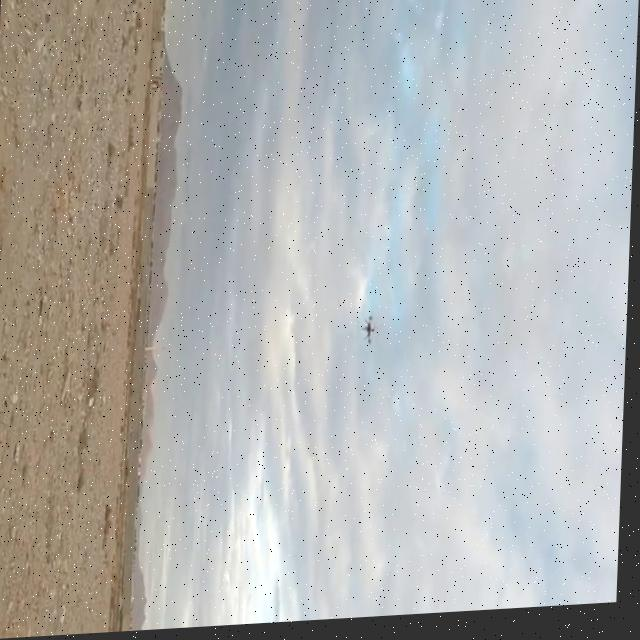drone: (361, 315, 382, 354)
